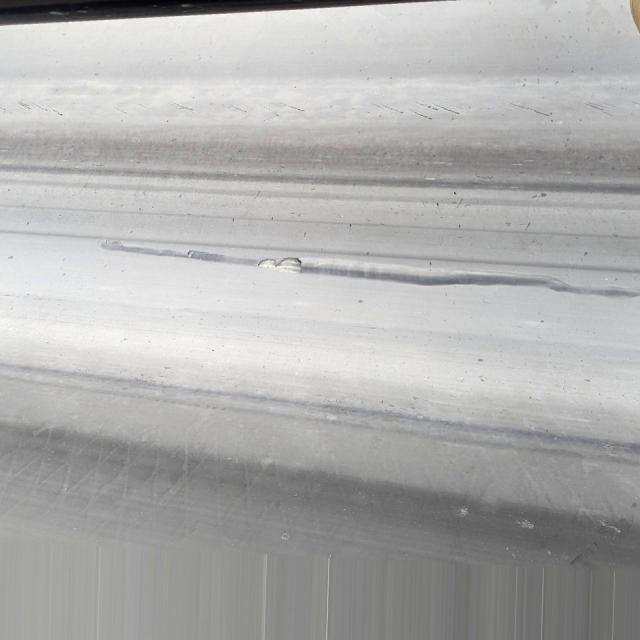Tear: (253, 255, 305, 275)
impact damage: (117, 234, 640, 309)
